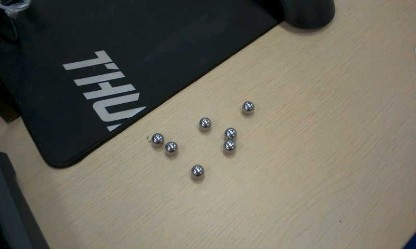ironball: (190, 164, 204, 179), (164, 140, 177, 156), (241, 100, 254, 114), (198, 117, 211, 131), (223, 127, 236, 140), (150, 133, 163, 146), (223, 139, 235, 153)
